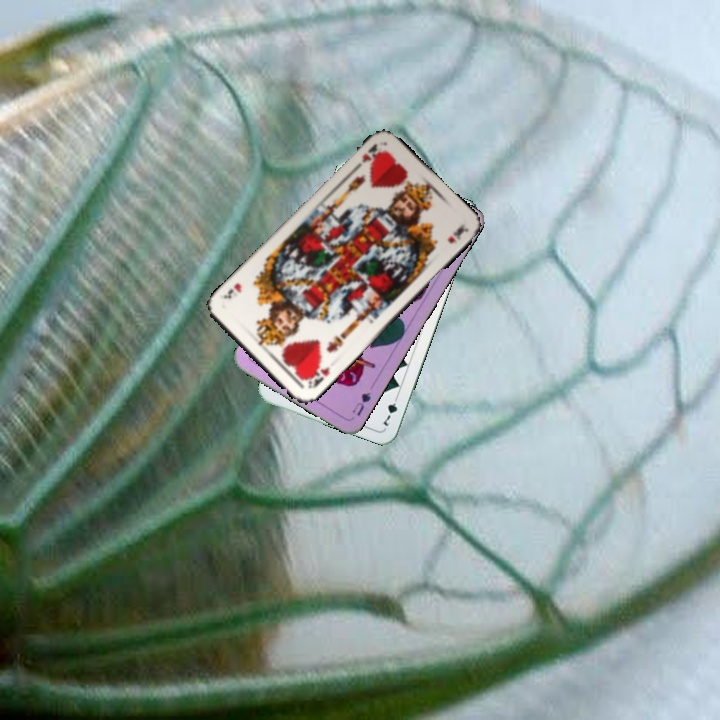G7: (379, 390, 402, 429)
GU: (348, 388, 373, 419)
HK: (350, 139, 382, 173), (302, 363, 333, 391)
